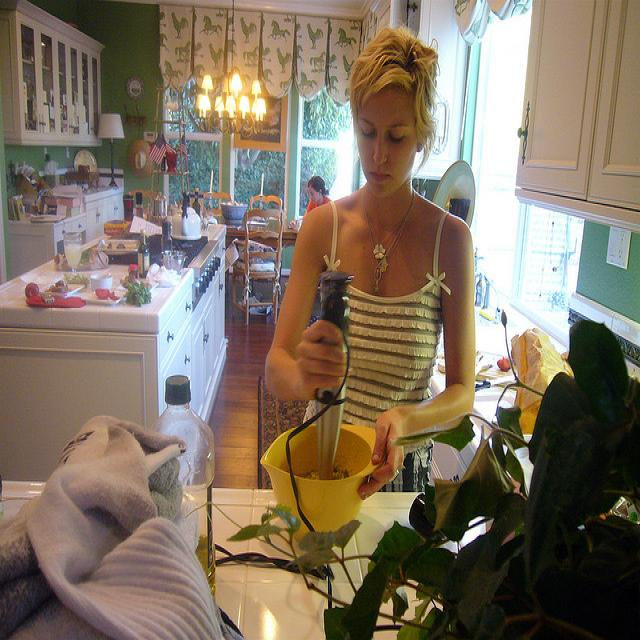chair: (231, 208, 285, 326), (197, 191, 233, 223), (128, 188, 159, 215), (250, 195, 282, 212)
dining table: (224, 219, 297, 248)
